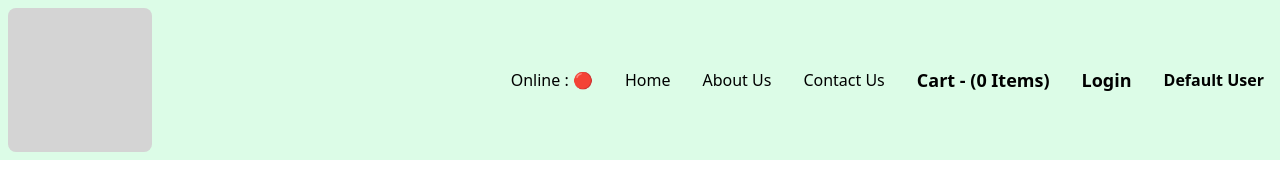
Test: Header component test cases › Should render change text to Logout on click of button
The width and height of the screenshot is (1280, 177).
Click the button "Login".
click(1106, 80)  # box [1082,66,1132,94]
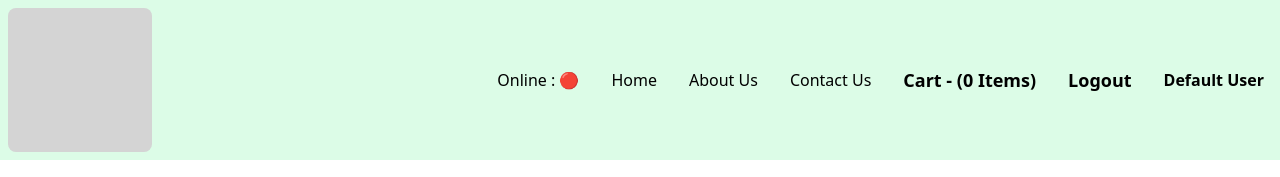
Result: the button "Logout" is shown
Click the button "Logout".
click(1100, 80)  # box [1068,66,1132,94]
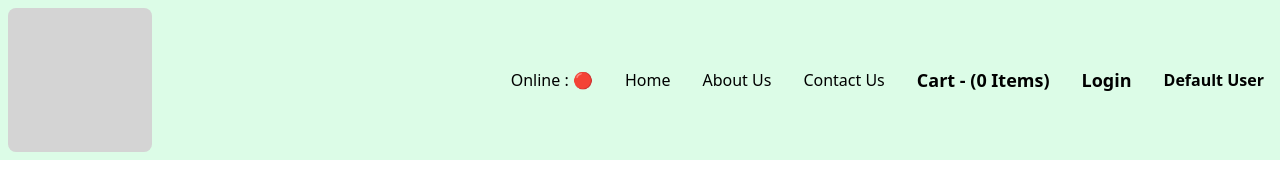
Result: the button "Login" is shown at [1082,66,1132,94]
